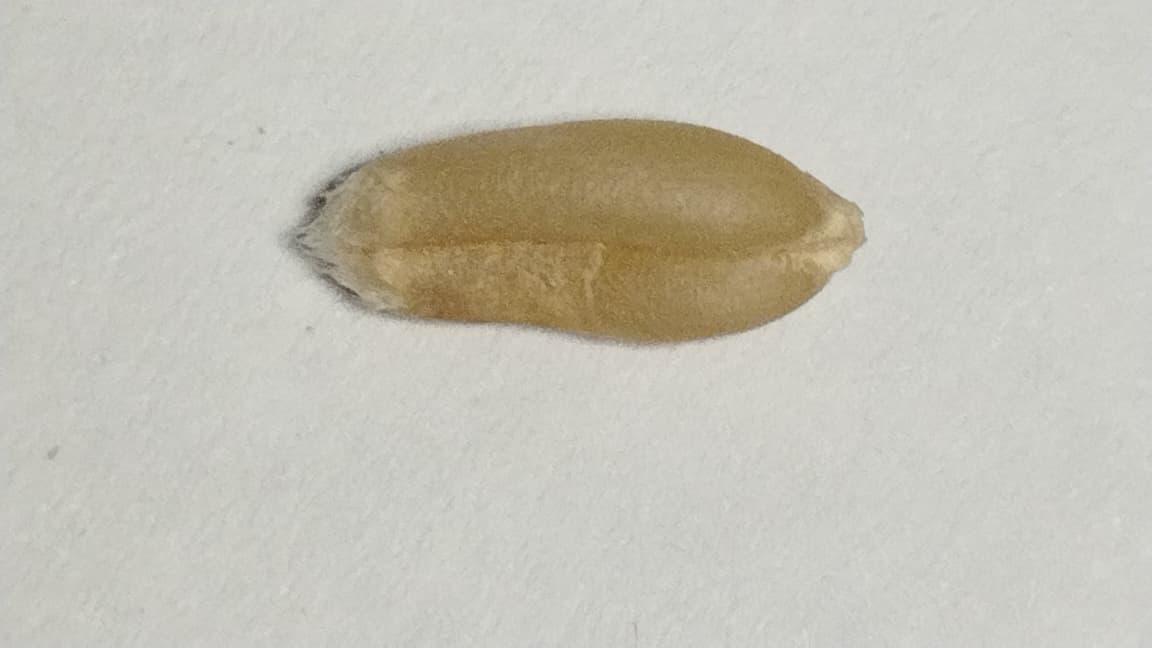healthy: (296, 117, 866, 347)
